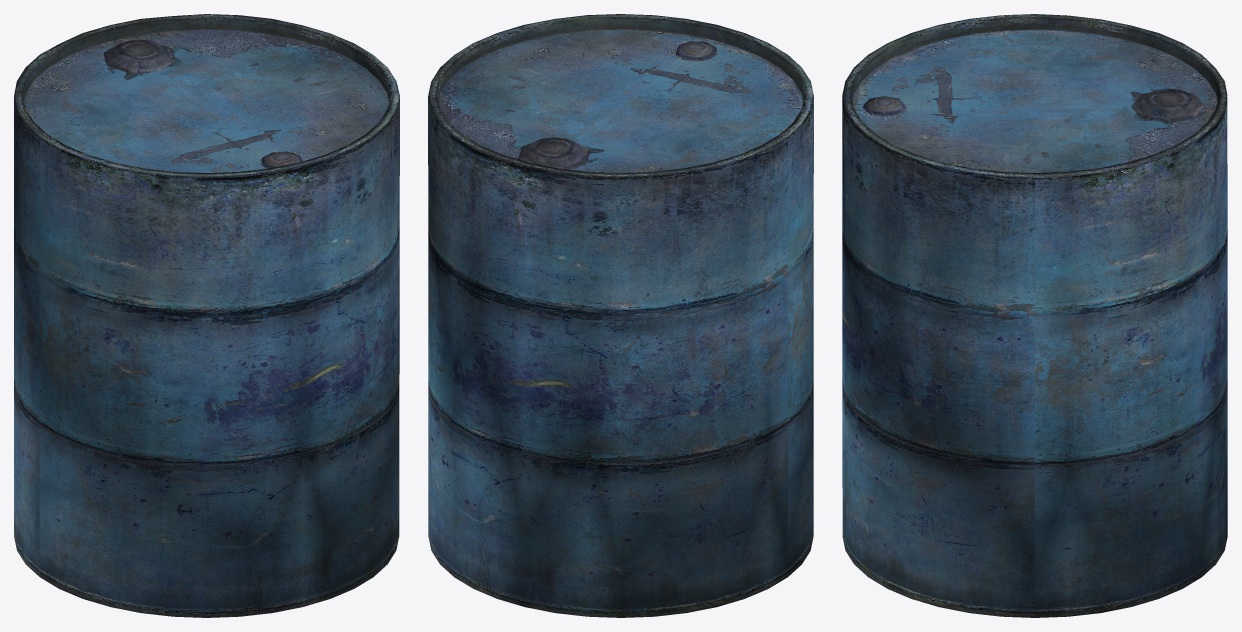
File: Barel_blue.obj
3 renders of one model, left to right at view 1: azimuth 30°, elevation 25°; view 2: azimuth 150°, elevation 25°; view 3: azimuth 270°, elevation 25°, orthographic.
Size of the model in its own units: 1.66 by 2.1 by 1.66.
1 material, 1 textured.
